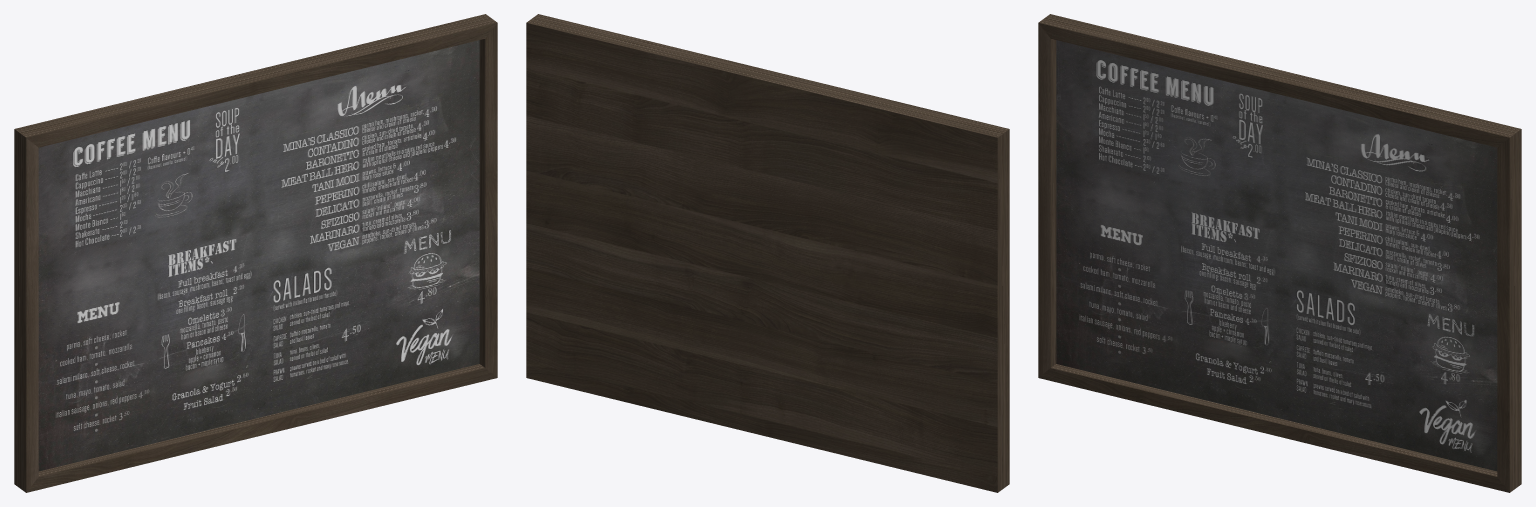
File: Board.FBX
3 views of the same model, side by side, from view 1: azimuth 30°, elevation 25°; view 2: azimuth 150°, elevation 25°; view 3: azimuth 330°, elevation 25° (orthographic).
Visible parts, largest first — view 1: Board; view 2: Board; view 3: Board.
Boxes of the visible parts, x1,y1,x2,y2 form: Board: (14, 14, 497, 492); Board: (526, 14, 1009, 492); Board: (1038, 14, 1521, 492).
Bounding box in the file's own units: 141 × 101 × 6.19.
2 materials, 2 textured.
